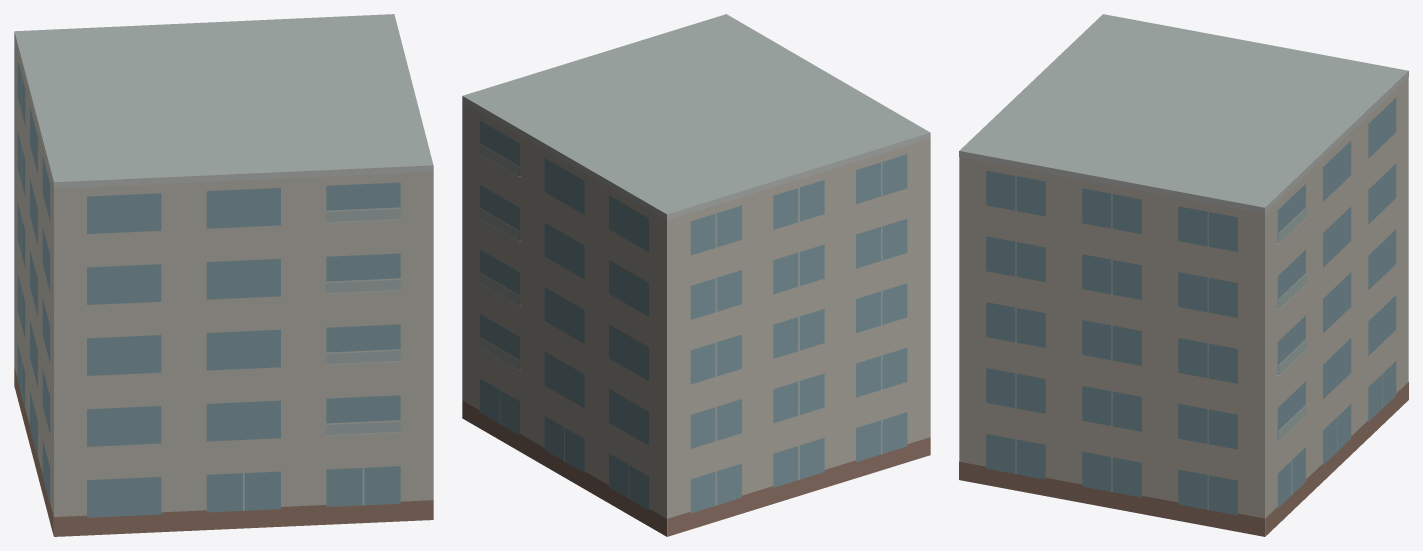
File: survey-upis-32916712.glb
The picture shows the model from 3 angles, left to right: view 1: azimuth 30°, elevation 25°; view 2: azimuth 150°, elevation 25°; view 3: azimuth 270°, elevation 25°; orthographic projection. The views are drawn at different scales.
Parts seen in each view (by area): view 1: survey-upis-32916712.tmp; view 2: survey-upis-32916712.tmp; view 3: survey-upis-32916712.tmp.
Boxes of the visible parts, x1,y1,x2,y2 form: survey-upis-32916712.tmp: (14, 14, 433, 536); survey-upis-32916712.tmp: (462, 14, 930, 536); survey-upis-32916712.tmp: (959, 14, 1408, 536).
Bounding box in the file's own units: 16.67 × 13.2 × 16.35.
